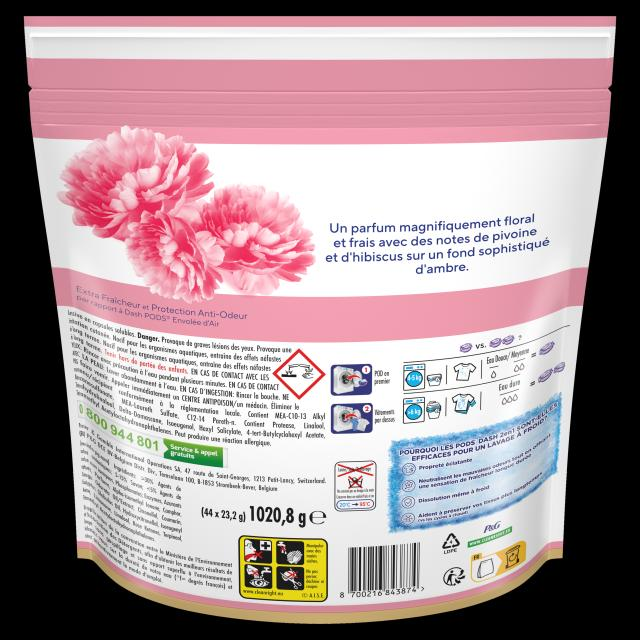GHS_Symbol_CORROSION: (273, 348, 326, 400)
